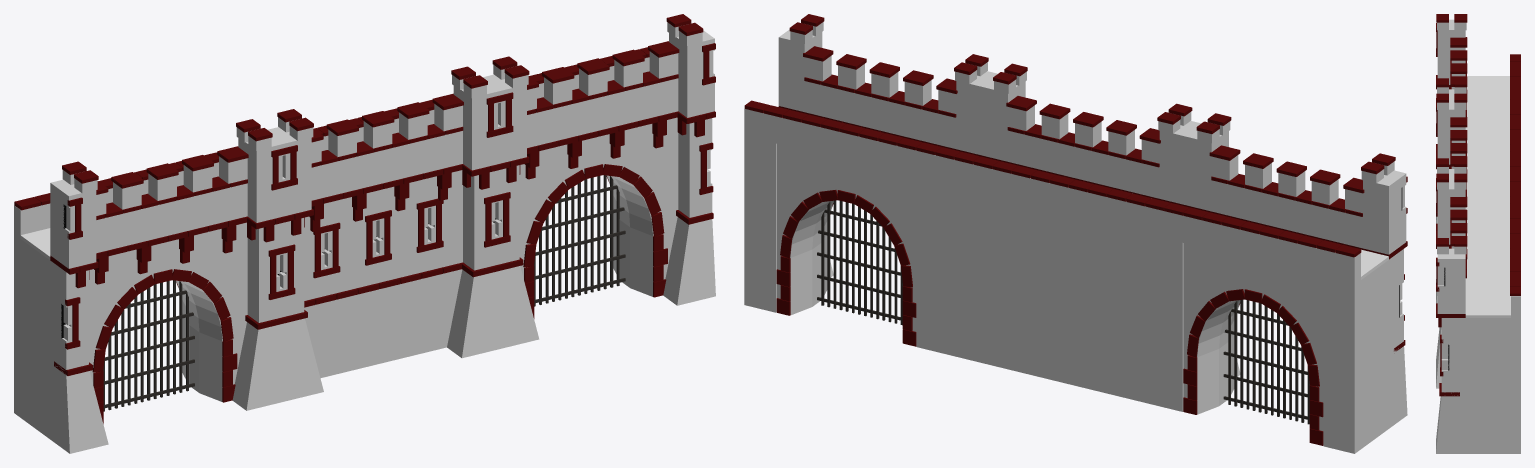
Rendered from SilverbrookWaterGate.fbx.
The picture shows the model from 3 angles, left to right: view 1: azimuth 30°, elevation 25°; view 2: azimuth 150°, elevation 25°; view 3: azimuth 270°, elevation 25°; orthographic projection. The views are drawn at different scales.
Visible parts, largest first — view 1: SM_SBWaterGate_Masonry, SM_SBWaterGate_Dressed, SM_SBWaterGate_Grate; view 2: SM_SBWaterGate_Masonry, SM_SBWaterGate_Dressed, SM_SBWaterGate_Grate; view 3: SM_SBWaterGate_Masonry, SM_SBWaterGate_Walk, SM_SBWaterGate_Dressed.
Part boxes in pixels (x1,y1,x2,y2): SM_SBWaterGate_Masonry: [14, 22, 715, 453]; SM_SBWaterGate_Dressed: [14, 14, 715, 423]; SM_SBWaterGate_Grate: [103, 175, 625, 411]; SM_SBWaterGate_Masonry: [744, 22, 1407, 453]; SM_SBWaterGate_Dressed: [744, 14, 1407, 445]; SM_SBWaterGate_Grate: [817, 200, 1309, 424]; SM_SBWaterGate_Masonry: [1436, 19, 1520, 453]; SM_SBWaterGate_Walk: [1465, 76, 1510, 317]; SM_SBWaterGate_Dressed: [1436, 14, 1520, 396].
Size of the model in its own units: 2000 by 800 by 300.
